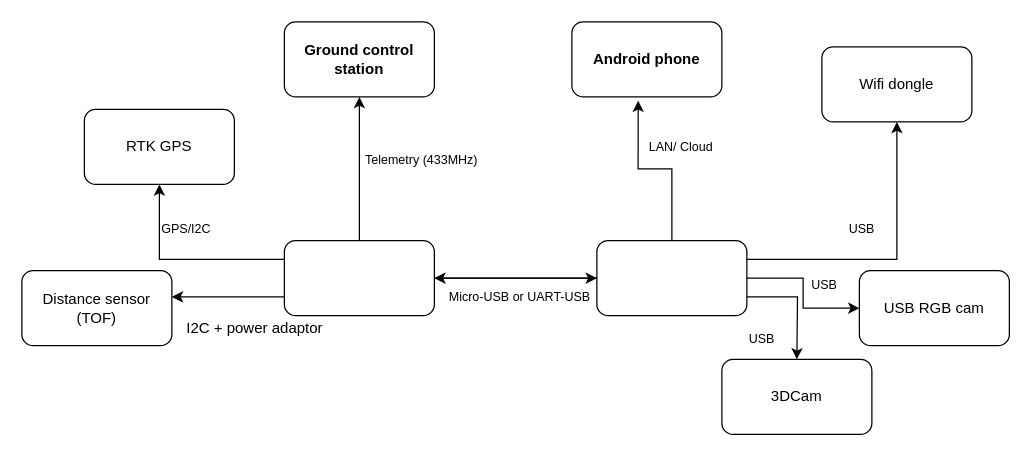
Some shapes in this 1031 by 456 pixel diagram are drawn without their labels. The shapes that lost their labels are listed below. From the top down, each one's centre as x and y in pixels, then its label:
point 358,277: Pixhawk
point 671,277: Odroid
